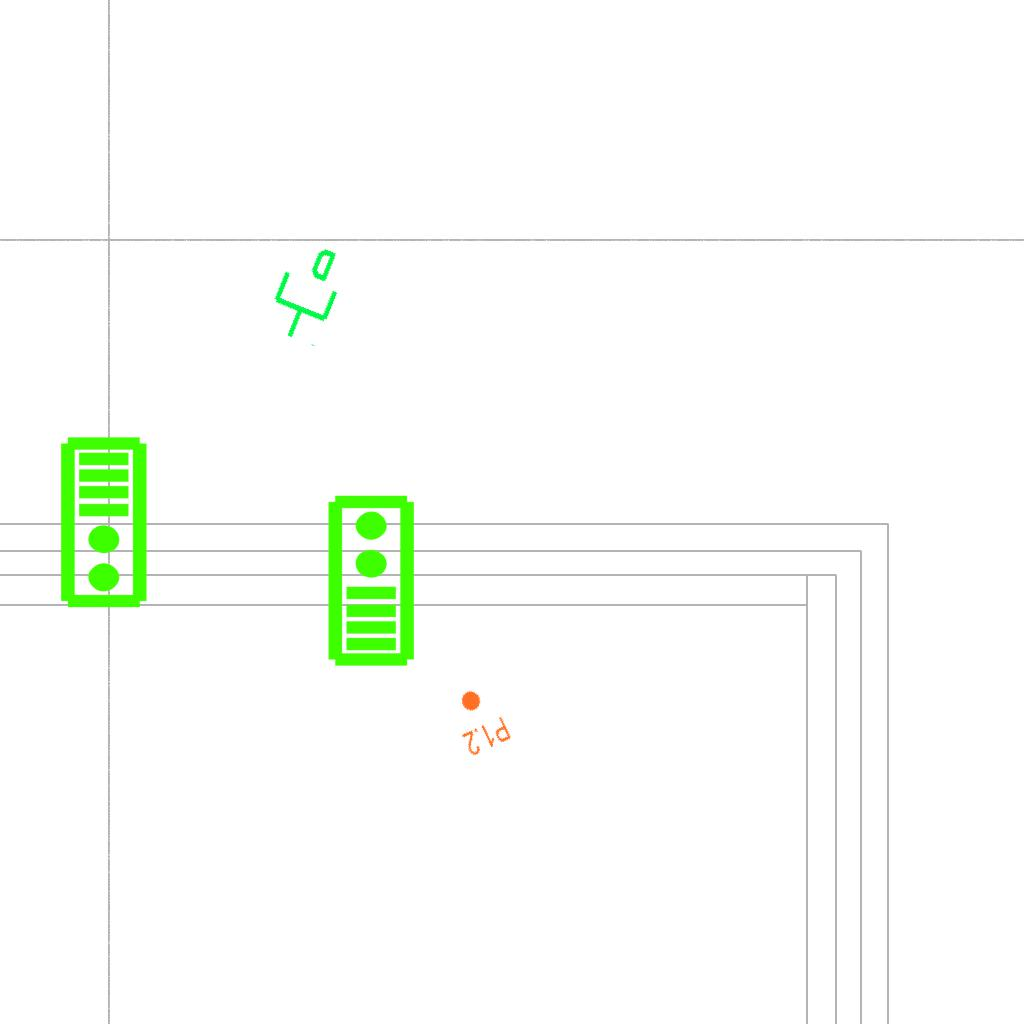Datenanschluss_einfach: (254, 232, 357, 352)
Downlight_LED_Einbauleuchten_Flur: (444, 681, 514, 759)
Gegensprechanlage_mit_Video: (322, 492, 417, 668), (58, 435, 153, 611)
